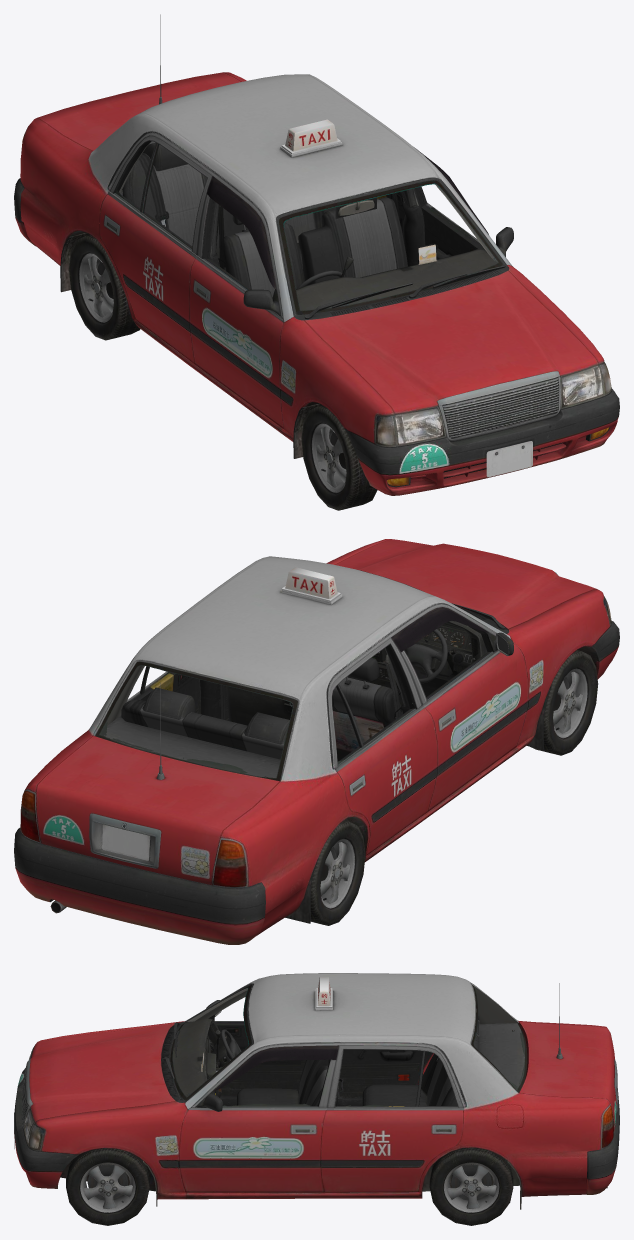
File: HK_Taxi_Red.fbx
3 renders of one model, top to bottom at view 1: azimuth 30°, elevation 25°; view 2: azimuth 150°, elevation 25°; view 3: azimuth 270°, elevation 25°, orthographic. The views are drawn at different scales.
Visible parts, largest first — view 1: T_TaxiHK_BodyEXT, T_TaxiHK_HoodF, T_TaxiHK_BodyINT, T_TaxiHK_Door03, T_TaxiHK_Door04, T_TaxiHK_HoodB, Rftire, Rbtire_01, T_TaxiHK_Door01, T_TaxiHK_Glass01, T_TaxiHK_Shade02, T_TaxiHK_LightFR01 (+2 smaller); view 2: T_TaxiHK_BodyEXT, T_TaxiHK_HoodB, T_TaxiHK_BodyINT, T_TaxiHK_Door03, T_TaxiHK_Door04, T_TaxiHK_HoodF, Rftire, Rbtire_01, T_TaxiHK_Glass02, T_TaxiHK_Shade02, T_TaxiHK_LightBR01, T_TaxiHK_Door02 (+4 smaller); view 3: T_TaxiHK_BodyEXT, T_TaxiHK_Door01, T_TaxiHK_Door02, T_TaxiHK_BodyINT, T_TaxiHK_HoodF, T_TaxiHK_HoodB, Lbtire_01, Lftire, T_TaxiHK_Door04, T_TaxiHK_Door03, T_TaxiHK_Shade01, T_TaxiHK_Glass01 (+3 smaller).
Boxes of the visible parts, left/top/right/bottom form: T_TaxiHK_BodyEXT: left=14, top=72, right=619, bottom=495; T_TaxiHK_HoodF: left=305, top=271, right=598, bottom=413; T_TaxiHK_BodyINT: left=99, top=141, right=497, bottom=310; T_TaxiHK_Door03: left=189, top=194, right=283, bottom=428; T_TaxiHK_Door04: left=99, top=135, right=212, bottom=363; T_TaxiHK_HoodB: left=37, top=14, right=241, bottom=151; Rftire: left=301, top=405, right=377, bottom=510; Rbtire_01: left=69, top=235, right=140, bottom=340; T_TaxiHK_Door01: left=415, top=186, right=513, bottom=262; T_TaxiHK_Glass01: left=279, top=180, right=502, bottom=314; T_TaxiHK_Shade02: left=206, top=176, right=276, bottom=289; T_TaxiHK_LightFR01: left=394, top=407, right=444, bottom=444; T_TaxiHK_BodyEXT: left=14, top=539, right=619, bottom=944; T_TaxiHK_HoodB: left=36, top=682, right=280, bottom=885; T_TaxiHK_BodyINT: left=104, top=621, right=487, bottom=777; T_TaxiHK_Door03: left=392, top=620, right=528, bottom=811; T_TaxiHK_Door04: left=329, top=637, right=437, bottom=855; T_TaxiHK_HoodF: left=335, top=539, right=596, bottom=628; Rftire: left=530, top=650, right=598, bottom=755; Rbtire_01: left=310, top=820, right=365, bottom=925; T_TaxiHK_Glass02: left=95, top=662, right=297, bottom=781; T_TaxiHK_Shade02: left=391, top=607, right=488, bottom=652; T_TaxiHK_LightBR01: left=213, top=840, right=246, bottom=886; T_TaxiHK_Door02: left=126, top=666, right=200, bottom=713; T_TaxiHK_BodyEXT: left=14, top=973, right=619, bottom=1209; T_TaxiHK_Door01: left=179, top=1046, right=336, bottom=1192; T_TaxiHK_Door02: left=321, top=1045, right=463, bottom=1192; T_TaxiHK_BodyINT: left=172, top=987, right=524, bottom=1192; T_TaxiHK_HoodF: left=29, top=1023, right=175, bottom=1122; T_TaxiHK_HoodB: left=512, top=983, right=617, bottom=1130; Lbtire_01: left=429, top=1147, right=513, bottom=1225; Lftire: left=66, top=1148, right=149, bottom=1225; T_TaxiHK_Door04: left=338, top=1049, right=433, bottom=1097; T_TaxiHK_Door03: left=206, top=1000, right=305, bottom=1096; T_TaxiHK_Shade01: left=213, top=1045, right=338, bottom=1091; T_TaxiHK_Glass01: left=170, top=985, right=251, bottom=1100.
Bounding box in the file's own units: 72.99 × 65.2 × 182.
22 materials, 22 textured.
